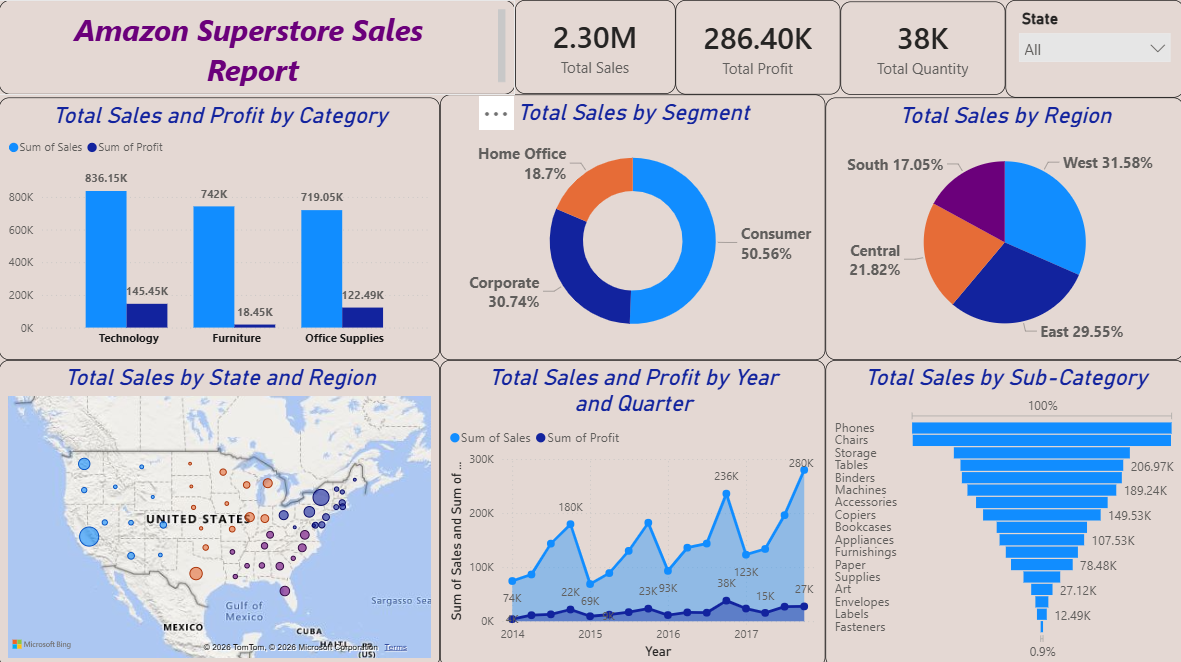

This screenshot's page, from the dashboard's own definition file:
{"tool":"powerbi","page":{"name":"Dashboard","canvas":[1280,720],"ordinal":6},"visuals":[{"type":"clusteredColumnChart","title":"Total Sales and Profit by Category","fields":{"Category":["Orders.Category"],"Y":["Sum(Orders.Sales)","Sum(Orders.Profit)"]},"box":[0,105.2,476.1,283.4],"z":0},{"type":"donutChart","title":"Total Sales by Segment","fields":{"Category":["Orders.Segment"],"Y":["Sum(Orders.Sales)"]},"box":[476.1,102,416.1,286.6],"z":1000},{"type":"map","title":"Total Sales by State and Region","fields":{"Category":["Orders.State"],"Series":["Orders.Region"],"Size":["Sum(Orders.Sales)"]},"box":[0,388.6,476.1,331.9],"z":2000},{"type":"areaChart","title":"Total Sales and Profit by Year and Quarter","fields":{"Category":["Orders.Order Date.Variation.Date Hierarchy.Year","Orders.Order Date.Variation.Date Hierarchy.Quarter","Orders.Order Date.Variation.Date Hierarchy.Month","Orders.Order Date.Variation.Date Hierarchy.Day"],"Y":["Sum(Orders.Sales)","Sum(Orders.Profit)"]},"box":[476.1,388.6,416.1,331.9],"z":3000},{"type":"pieChart","title":"Total Sales by Region","fields":{"Category":["Orders.Region"],"Y":["Sum(Orders.Sales)"]},"box":[892.2,105.2,387,283.4],"z":4000},{"type":"funnel","title":"Total Sales by Sub-Category","fields":{"Category":["Orders.Sub-Category"],"Y":["Sum(Orders.Sales)"]},"box":[892.2,388.6,388.6,331.9],"z":5000},{"type":"textbox","box":[0,0,557,102],"z":6000},{"type":"cardVisual","fields":{"Data":["Orders.Net Sales"]},"box":[556.2,0,173.4,101.6],"z":7000},{"type":"cardVisual","fields":{"Data":["Orders.Net Profit"]},"box":[730.3,0,178.1,102],"z":8000},{"type":"cardVisual","fields":{"Data":["Orders.Net Quantity Sold"]},"box":[908.4,1.6,178.1,100.4],"z":9000},{"type":"slicer","fields":{"Values":["Orders.State"]},"box":[1086.5,0,192.7,105.2],"z":10000}]}

Visuals, with their boxes in screenshot pixels (x1, y1, x2, y2), scaled from the page's 1280x720 canvas onto the 1181x662 screenshot:
"Total Sales and Profit by Category" clusteredColumnChart: <box>0,97,439,357</box>
"Total Sales by Segment" donutChart: <box>439,94,823,357</box>
"Total Sales by State and Region" map: <box>0,357,439,661</box>
"Total Sales and Profit by Year and Quarter" areaChart: <box>439,357,823,661</box>
"Total Sales by Region" pieChart: <box>823,97,1180,357</box>
"Total Sales by Sub-Category" funnel: <box>823,357,1180,661</box>
textbox: <box>0,0,514,94</box>
cardVisual - Orders.Net Sales: <box>513,0,673,93</box>
cardVisual - Orders.Net Profit: <box>674,0,838,94</box>
cardVisual - Orders.Net Quantity Sold: <box>838,1,1002,94</box>
slicer - Orders.State: <box>1002,0,1180,97</box>
